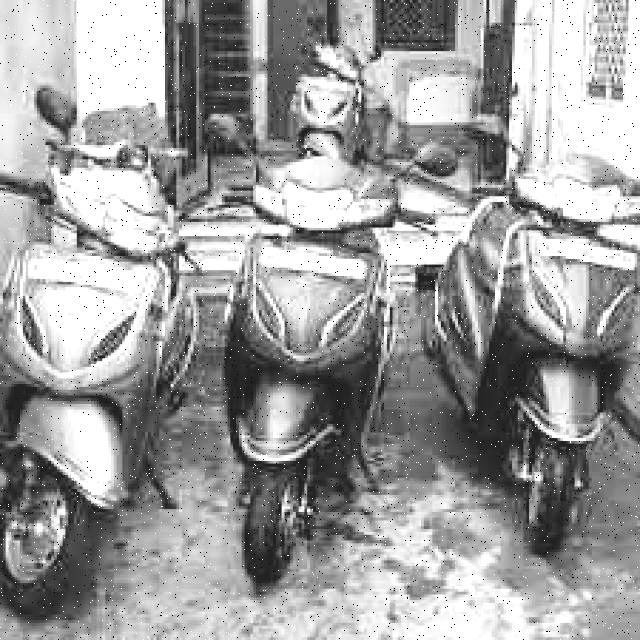Bike: (222, 145, 441, 640), (0, 140, 200, 640), (463, 122, 640, 548), (302, 40, 383, 166)
